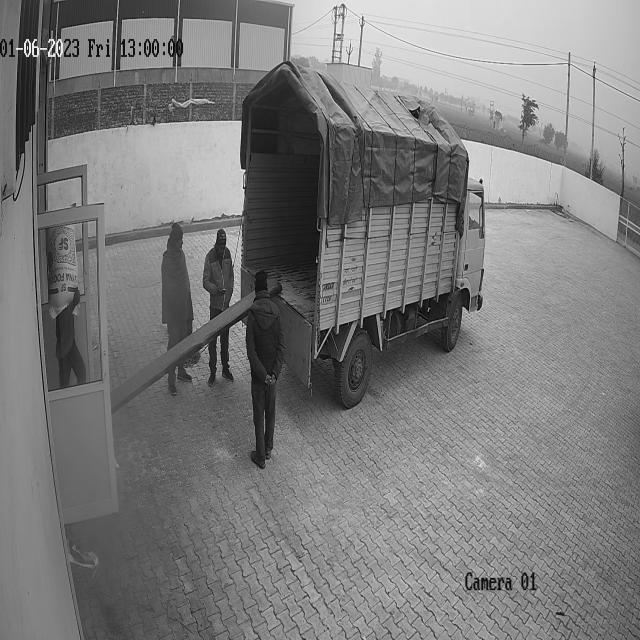sack: (44, 223, 78, 314)
